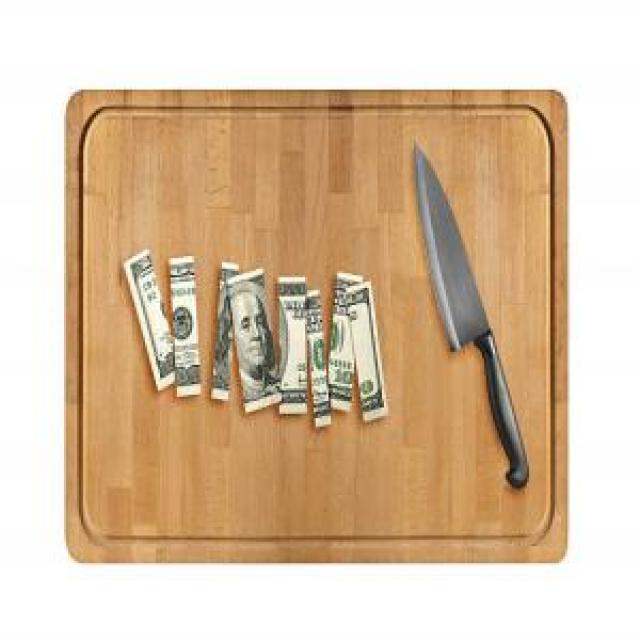knife: (412, 143, 535, 491)
